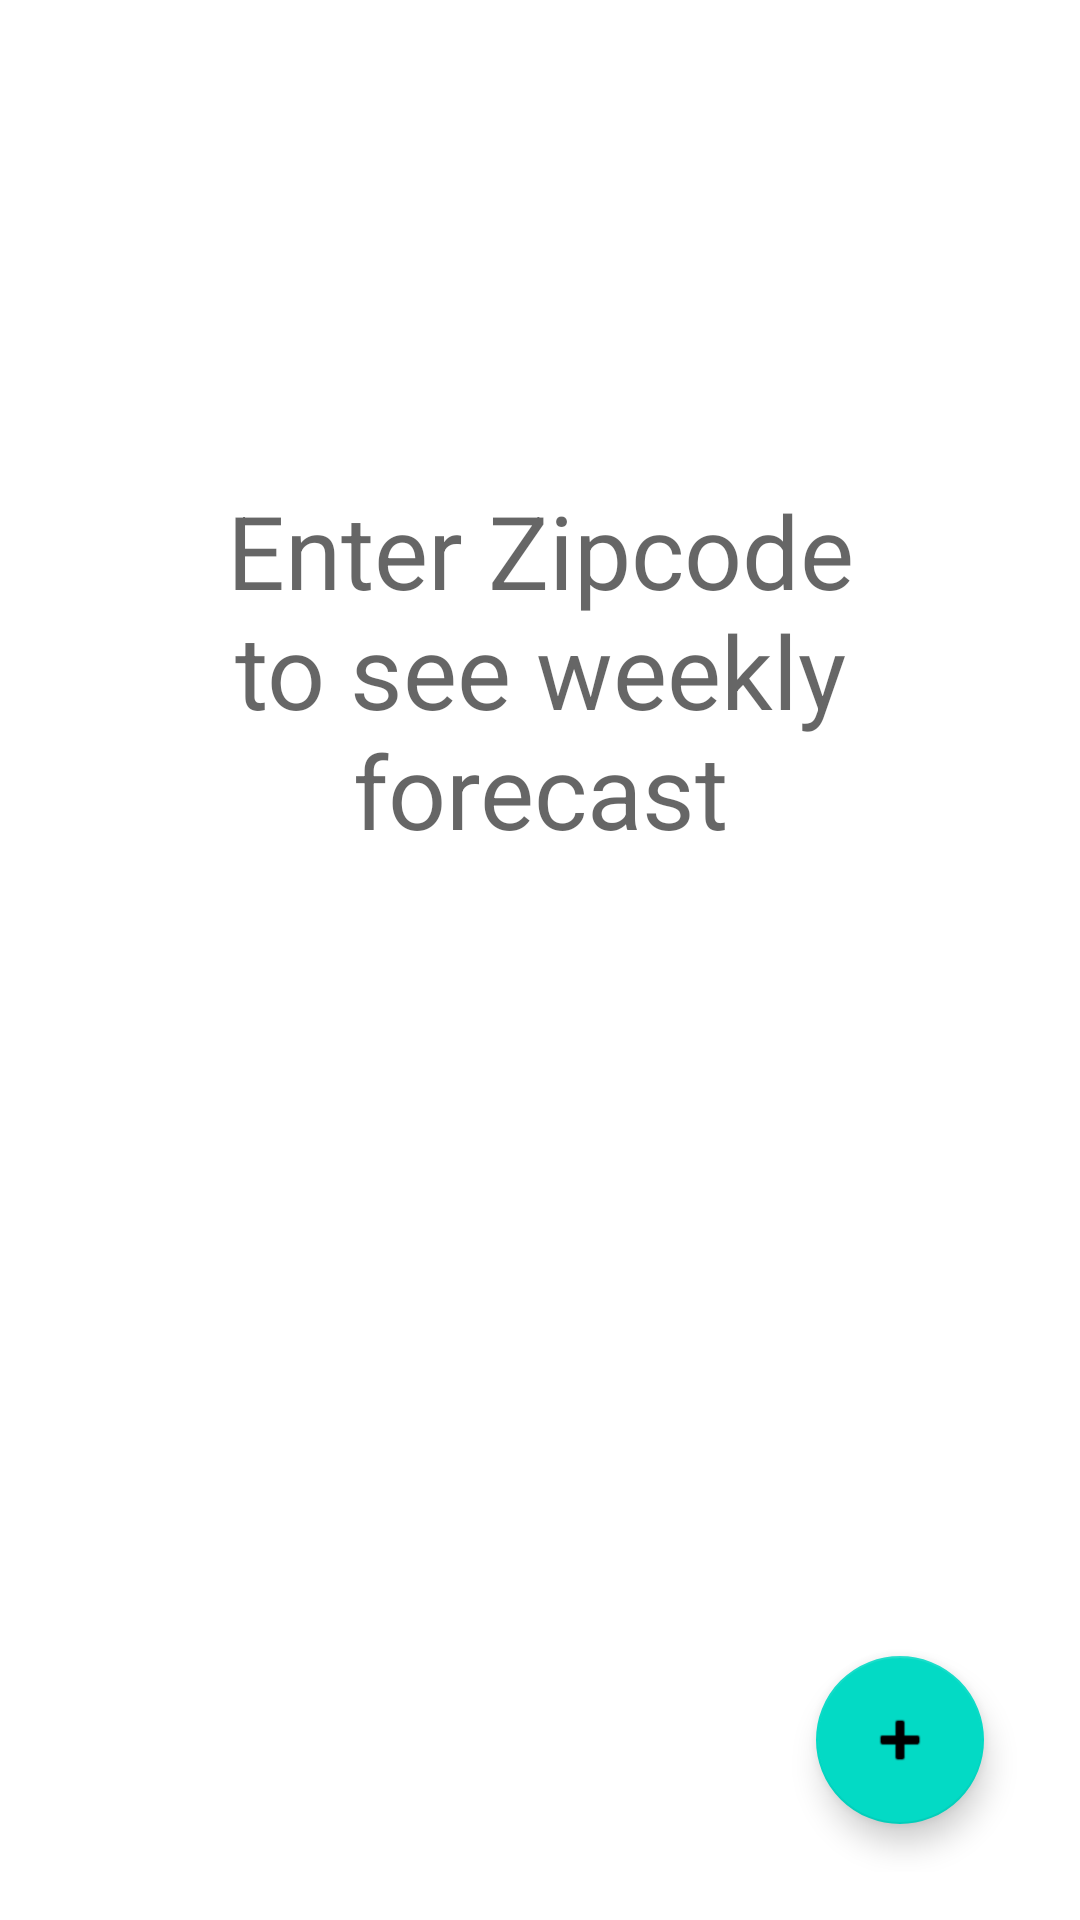

Point at icon controls on the screen. Image size 1080×1920, points as (x,y).
add: (900,1740)
